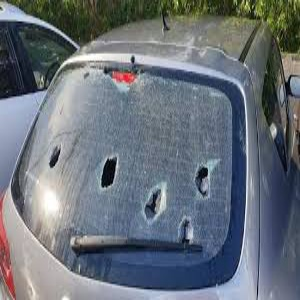rear_windshield_glass: (40, 72, 219, 253)
